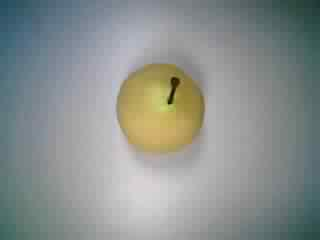pear: (99, 59, 215, 162)
